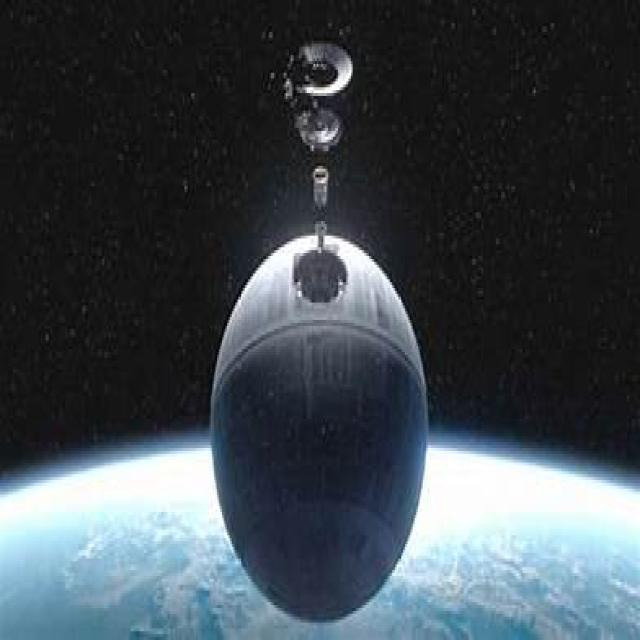deathStar: (218, 232, 426, 618)
